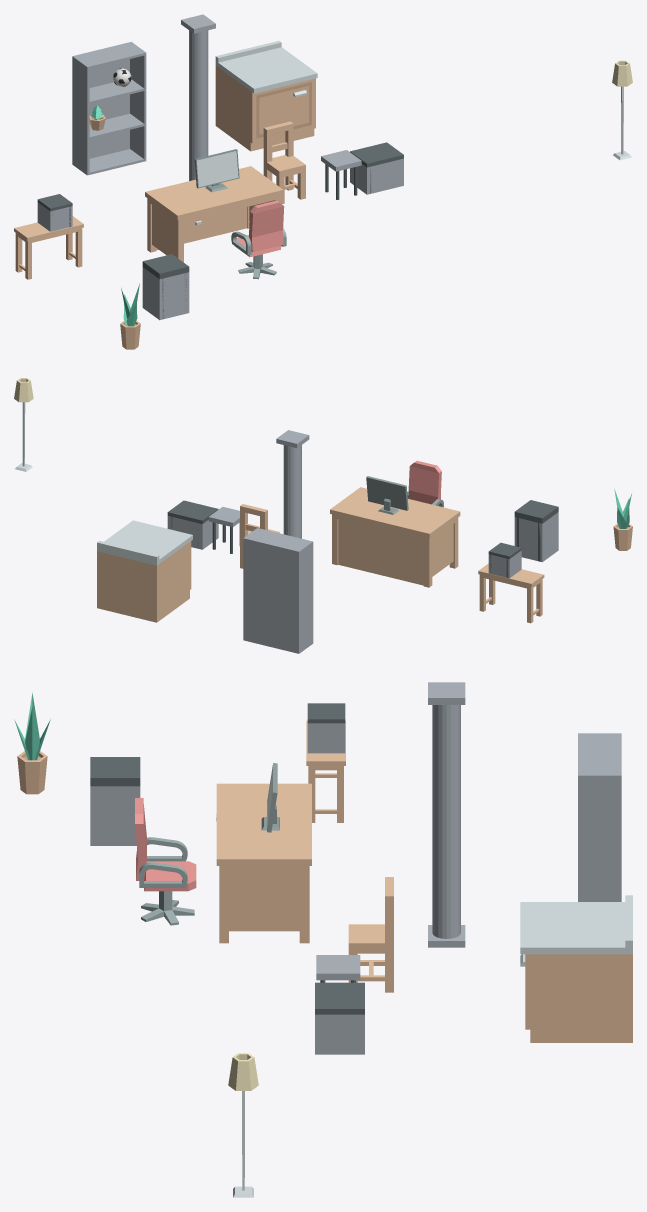
The picture shows the model from 3 angles, top to bottom: view 1: azimuth 30°, elevation 25°; view 2: azimuth 150°, elevation 25°; view 3: azimuth 270°, elevation 25°; orthographic projection. The views are drawn at different scales.
Parts seen in each view (by area): view 1: desk_blue__desk(Clone), cabinet_blue__kitchenCabinet(Clone), column_cyan__column_cyan shaft, cabinet_blue__door, shelf_orange__shelf_orange back, chair_cyan__chair(Clone), deskchair_black__chair, shelf_orange__shelf_orange side_l, bin_gray__bin_gray shell, sidetable_brown__sideTable(Clone), shelf_orange__shelf_orange side_r, monitor_gray__computerScreen(Clone) (+11 smaller); view 2: desk_blue__desk(Clone), cabinet_blue__kitchenCabinet(Clone), shelf_orange__shelf_orange back, shelf_orange__shelf_orange side_l, column_cyan__column_cyan shaft, sidetable_brown__sideTable(Clone), bin_gray__bin_gray shell, deskchair_black__chair, monitor_gray__computerScreen(Clone), crate_red__crate_red shell, chair_cyan__chair(Clone), shelf_orange__shelf_orange board3 (+7 smaller); view 3: cabinet_blue__kitchenCabinet(Clone), desk_blue__desk(Clone), column_cyan__column_cyan shaft, shelf_orange__shelf_orange side_r, deskchair_black__chair, bin_gray__bin_gray shell, chair_cyan__chair(Clone), crate_red__crate_red shell, shelf_orange__shelf_orange board3, sidetable_brown__sideTable(Clone), crate_red__crate_red lid, bin_gray__bin_gray lid (+9 smaller).
Part boxes in pixels (left/top/right/bottom): desk_blue__desk(Clone): left=145, top=166, right=283, bottom=262; cabinet_blue__kitchenCabinet(Clone): left=215, top=41, right=317, bottom=151; column_cyan__column_cyan shaft: left=189, top=30, right=208, bottom=180; cabinet_blue__door: left=256, top=82, right=311, bottom=138; shelf_orange__shelf_orange back: left=75, top=42, right=129, bottom=158; chair_cyan__chair(Clone): left=263, top=121, right=305, bottom=204; deskchair_black__chair: left=231, top=200, right=286, bottom=257; shelf_orange__shelf_orange side_l: left=72, top=55, right=89, bottom=175; bin_gray__bin_gray shell: left=142, top=267, right=189, bottom=320; sidetable_brown__sideTable(Clone): left=14, top=216, right=83, bottom=279; shelf_orange__shelf_orange side_r: left=130, top=42, right=146, bottom=161; monitor_gray__computerScreen(Clone): left=194, top=149, right=239, bottom=192; desk_blue__desk(Clone): left=330, top=487, right=460, bottom=587; cabinet_blue__kitchenCabinet(Clone): left=97, top=520, right=192, bottom=622; shelf_orange__shelf_orange back: left=245, top=538, right=297, bottom=653; shelf_orange__shelf_orange side_l: left=297, top=541, right=313, bottom=653; column_cyan__column_cyan shaft: left=283, top=445, right=301, bottom=538; sidetable_brown__sideTable(Clone): left=478, top=563, right=544, bottom=623; bin_gray__bin_gray shell: left=514, top=512, right=558, bottom=562; deskchair_black__chair: left=407, top=460, right=443, bottom=507; monitor_gray__computerScreen(Clone): left=366, top=476, right=408, bottom=514; crate_red__crate_red shell: left=167, top=516, right=218, bottom=549; chair_cyan__chair(Clone): left=240, top=504, right=279, bottom=568; shelf_orange__shelf_orange board3: left=246, top=528, right=310, bottom=550; cabinet_blue__kitchenCabinet(Clone): left=520, top=895, right=632, bottom=1042; desk_blue__desk(Clone): left=216, top=783, right=311, bottom=943; column_cyan__column_cyan shaft: left=432, top=705, right=460, bottom=938; shelf_orange__shelf_orange side_r: left=578, top=774, right=621, bottom=901; deskchair_black__chair: left=135, top=798, right=196, bottom=891; bin_gray__bin_gray shell: left=90, top=786, right=140, bottom=845; chair_cyan__chair(Clone): left=348, top=877, right=393, bottom=992; crate_red__crate_red shell: left=315, top=1014, right=364, bottom=1054; shelf_orange__shelf_orange board3: left=578, top=735, right=619, bottom=773; sidetable_brown__sideTable(Clone): left=306, top=720, right=345, bottom=822; crate_red__crate_red lid: left=315, top=982, right=364, bottom=1014; bin_gray__bin_gray lid: left=90, top=757, right=140, bottom=786.
Size of the model in its own units: 7.86 by 2.2 by 4.95.
